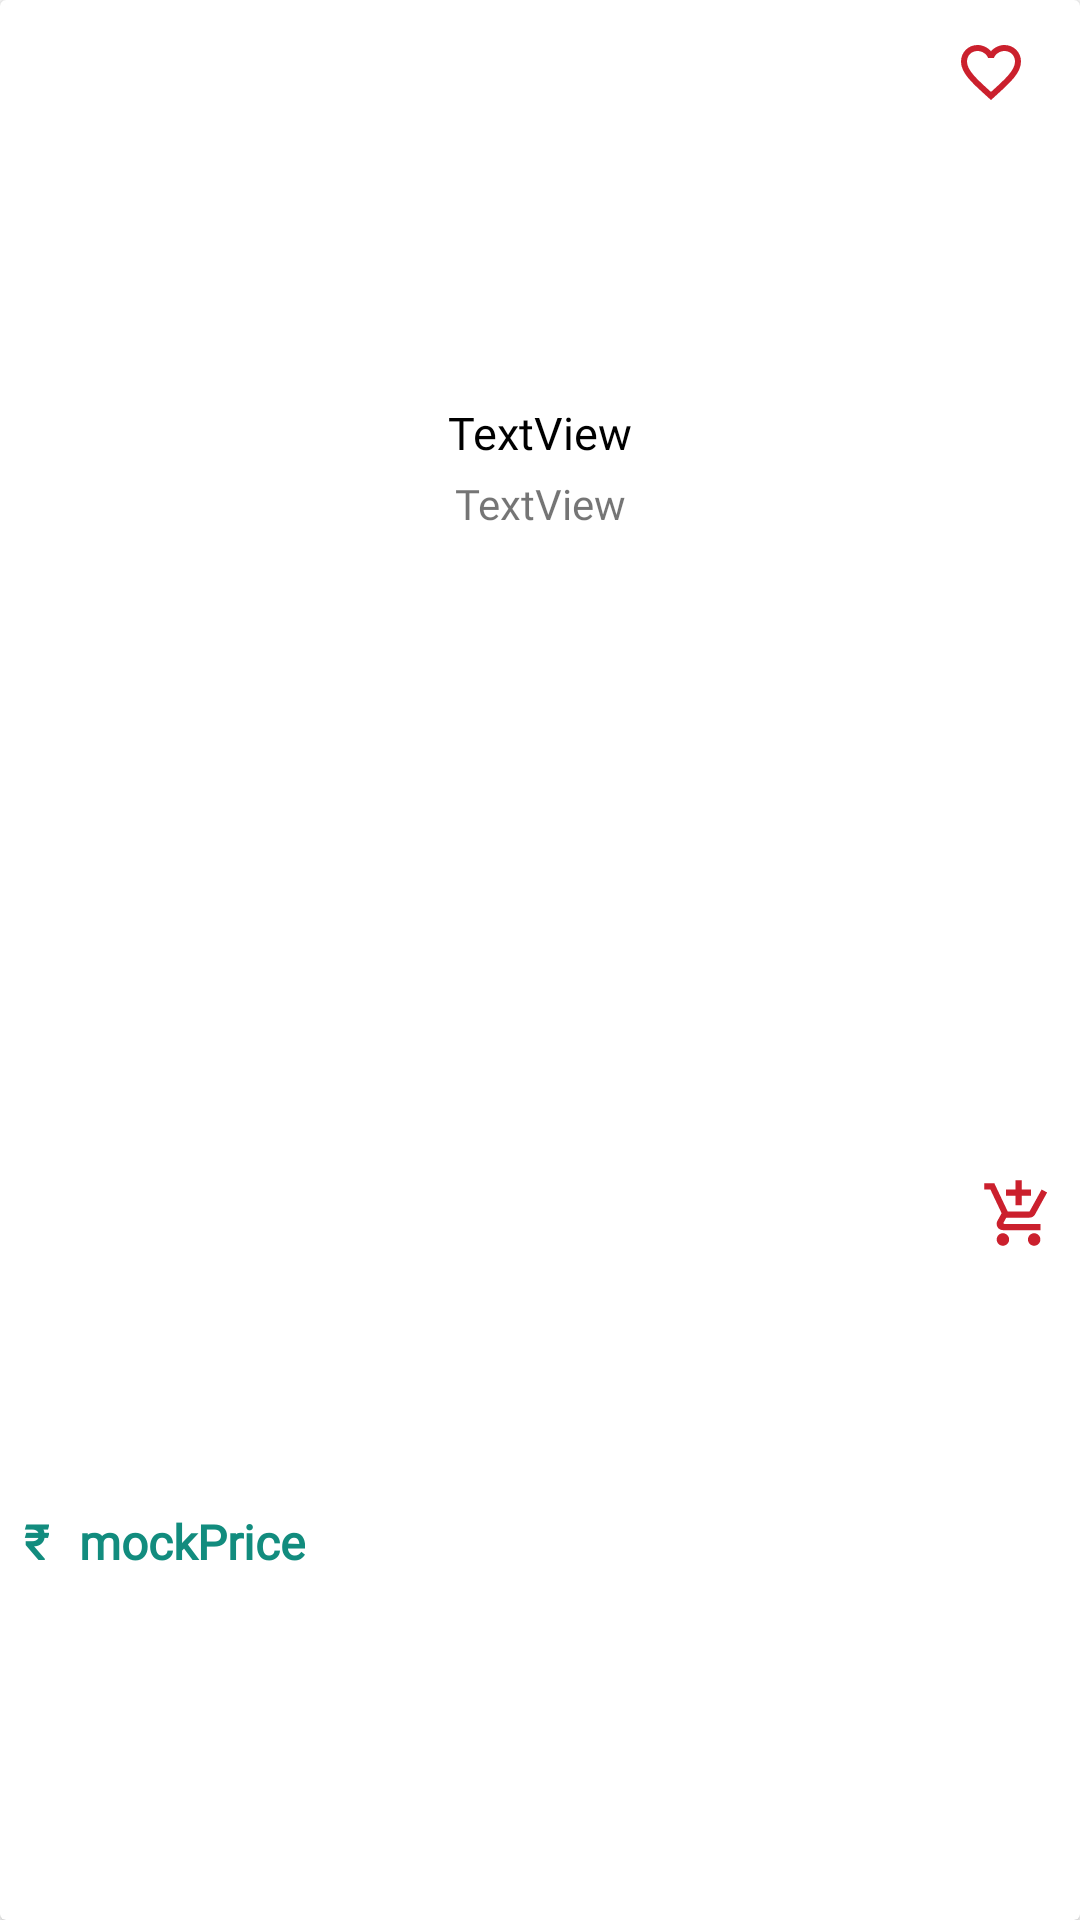

Screen size 1080×1920. Icon name, then its box in pixels as (x1, y1, x2, y2):
add shopping cart: (984, 1180, 1047, 1246)
favorite border: (961, 45, 1021, 100)
